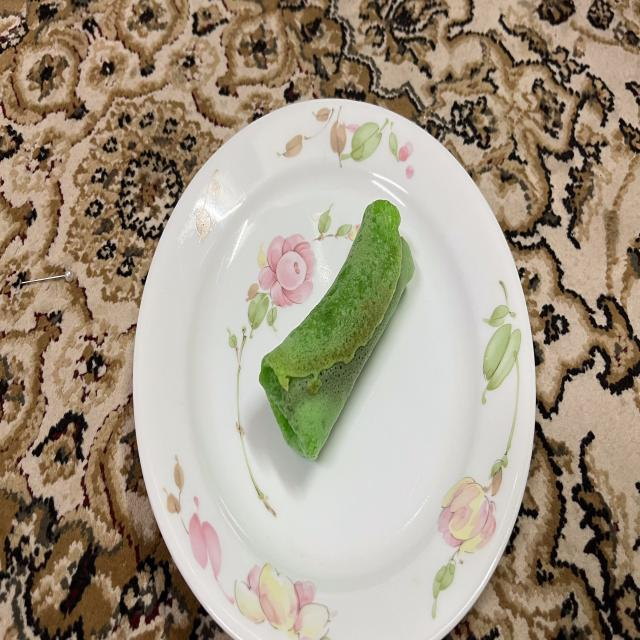Kuih-Ketayap: (260, 200, 415, 460)
